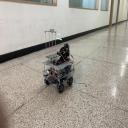cart: (42, 57, 74, 94)
